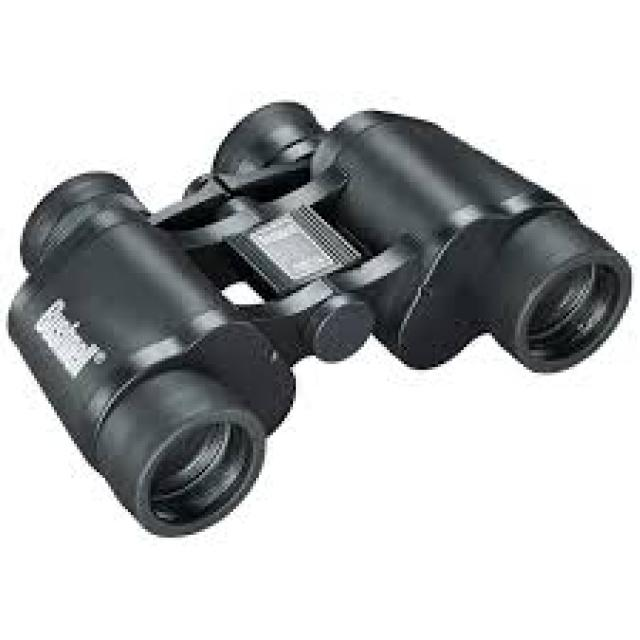Binocular: (7, 92, 634, 539)
